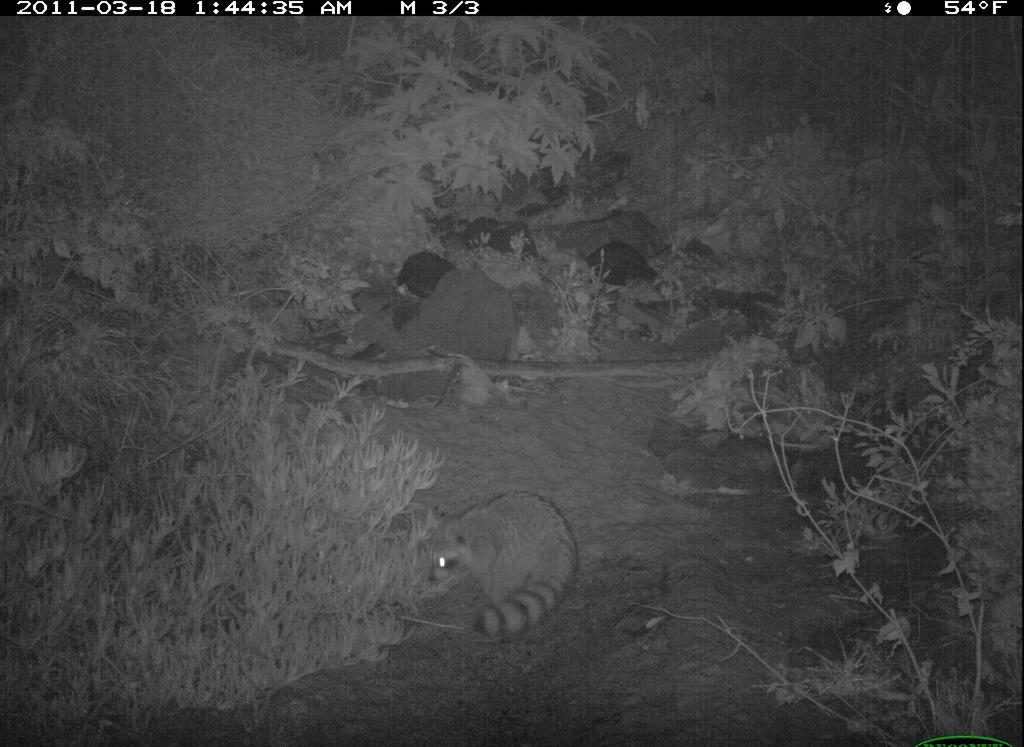raccoon: (417, 475, 594, 661)
